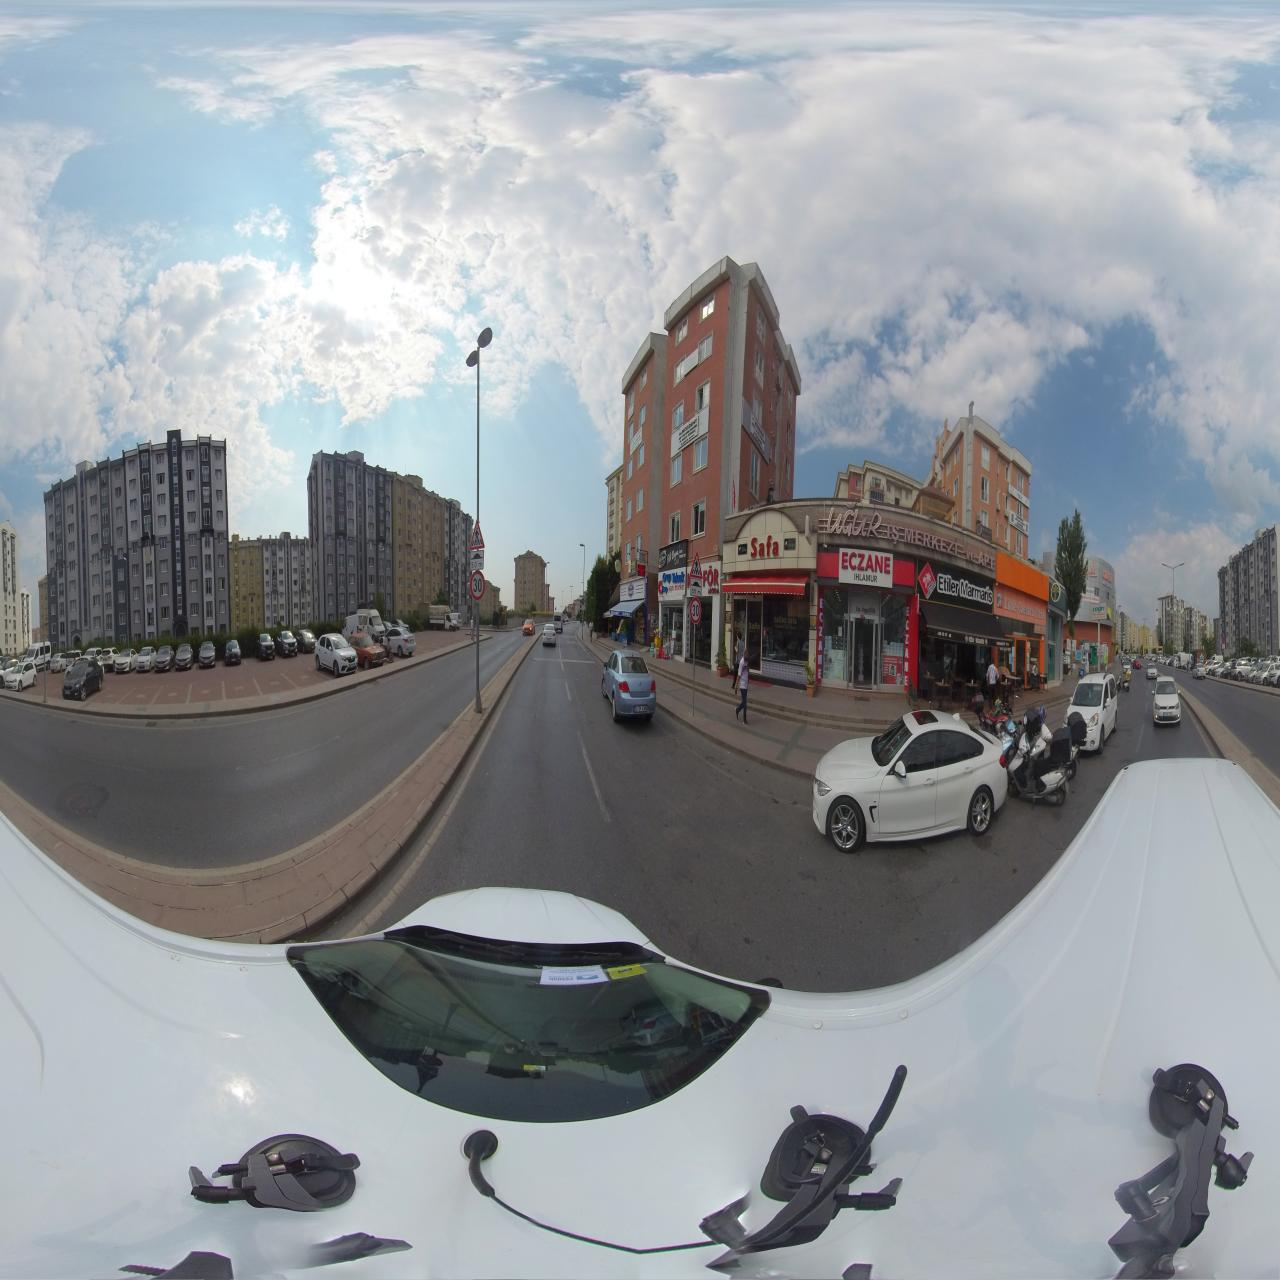SignStore: (817, 503, 996, 579), (917, 558, 994, 614), (838, 549, 892, 588), (994, 585, 1047, 625), (748, 531, 784, 560), (658, 567, 687, 597), (620, 578, 645, 601)
